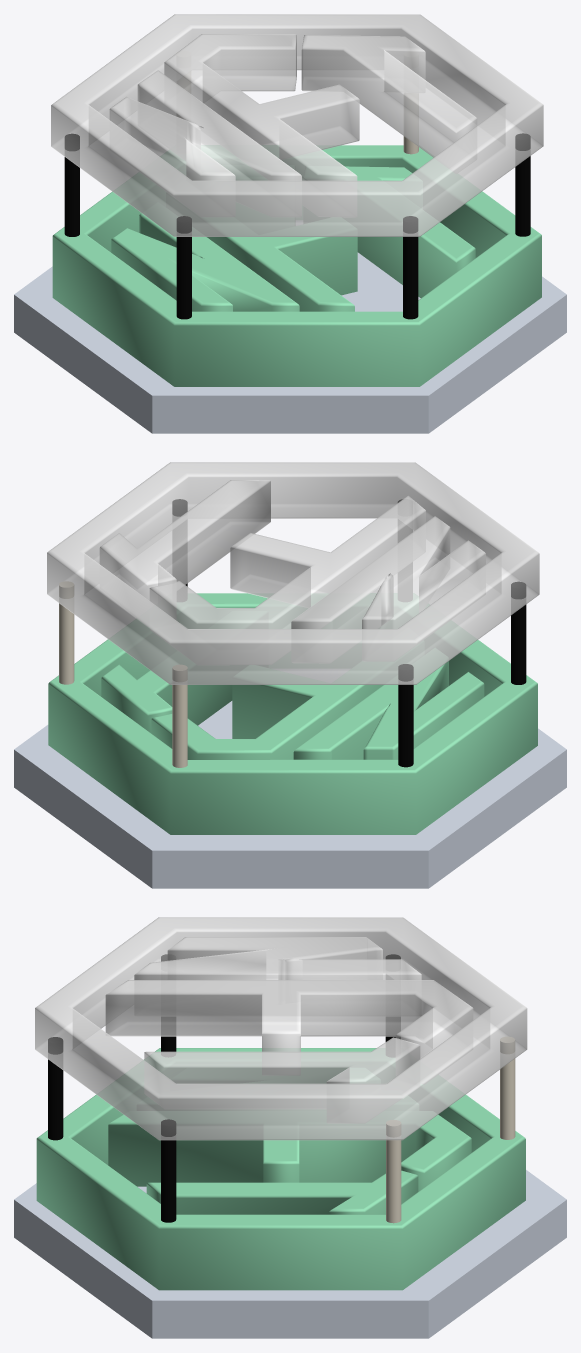
3 views of the same model, one above another, from view 1: azimuth 30°, elevation 25°; view 2: azimuth 150°, elevation 25°; view 3: azimuth 270°, elevation 25° (orthographic).
Visible parts, largest first — view 1: nft002, nft001, 柱体, 柱体005, 柱体004, 柱体003, 柱体006; view 2: nft002, nft001, 柱体, 柱体001, 柱体006, 柱体002, 柱体005; view 3: nft002, nft001, 柱体, 柱体002, 柱体003, 柱体001, 柱体004.
Boxes of the visible parts, <box> form: nft002: <box>51,14,543,236</box>; nft001: <box>52,145,541,386</box>; 柱体: <box>14,252,566,433</box>; 柱体005: <box>176,216,191,319</box>; 柱体004: <box>403,216,418,319</box>; 柱体003: <box>515,133,530,236</box>; 柱体006: <box>64,134,79,236</box>; nft002: <box>47,462,539,684</box>; nft001: <box>48,593,537,834</box>; 柱体: <box>14,701,566,888</box>; 柱体001: <box>172,665,187,767</box>; 柱体006: <box>398,664,413,767</box>; 柱体002: <box>59,581,74,684</box>; 柱体005: <box>511,582,526,684</box>; nft002: <box>35,917,527,1140</box>; nft001: <box>36,1048,525,1290</box>; 柱体: <box>14,1170,566,1338</box>; 柱体002: <box>386,1120,401,1223</box>; 柱体003: <box>161,1119,176,1222</box>; 柱体001: <box>500,1037,515,1139</box>; 柱体004: <box>48,1037,63,1140</box>.
Bounding box in the file's own units: 3.5 × 1.87 × 4.04.
